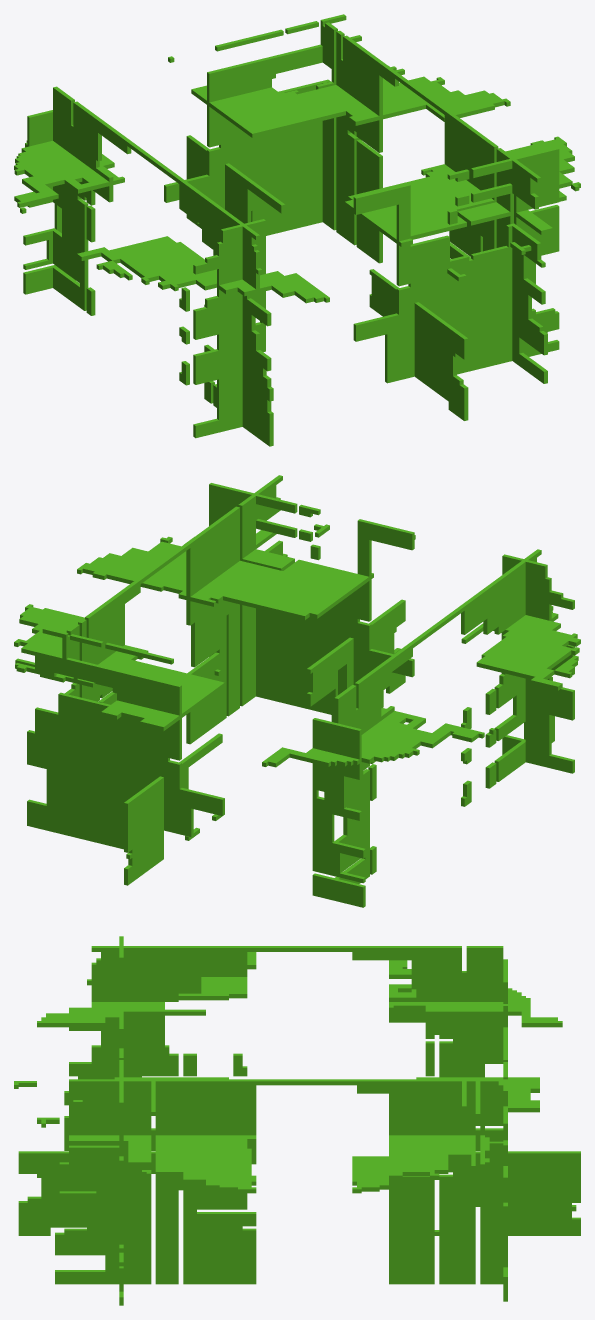
3 renders of one model, top to bottom at view 1: azimuth 30°, elevation 25°; view 2: azimuth 150°, elevation 25°; view 3: azimuth 270°, elevation 25°, orthographic.
Visible parts, largest first — view 1: 绿光; view 2: 绿光; view 3: 绿光.
Part boxes in pixels (left/top/right/bottom): 绿光: left=14, top=14, right=580, bottom=446; 绿光: left=14, top=475, right=580, bottom=907; 绿光: left=14, top=936, right=580, bottom=1305.
Bounding box in the file's own units: 123 × 49 × 124.
1 material, 1 textured.
